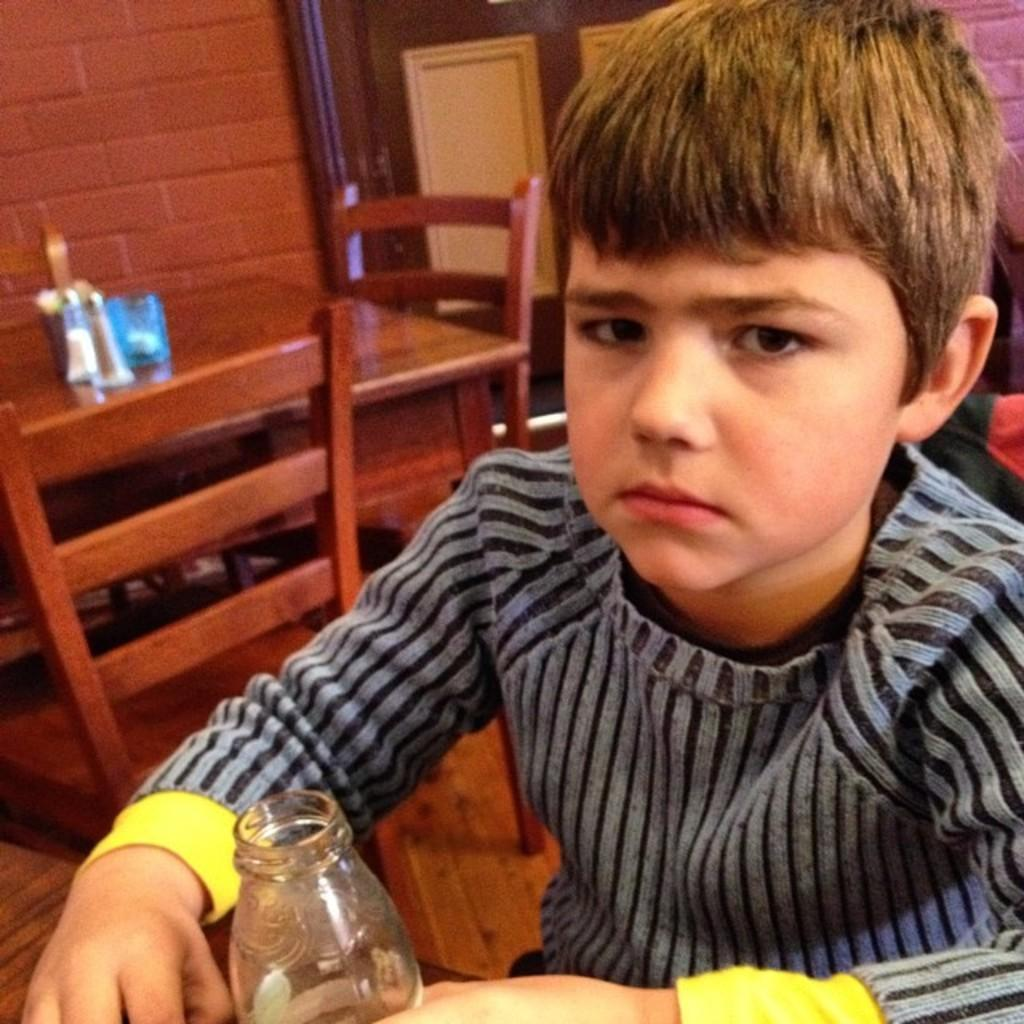Sem Máscara: (555, 234, 904, 602)
